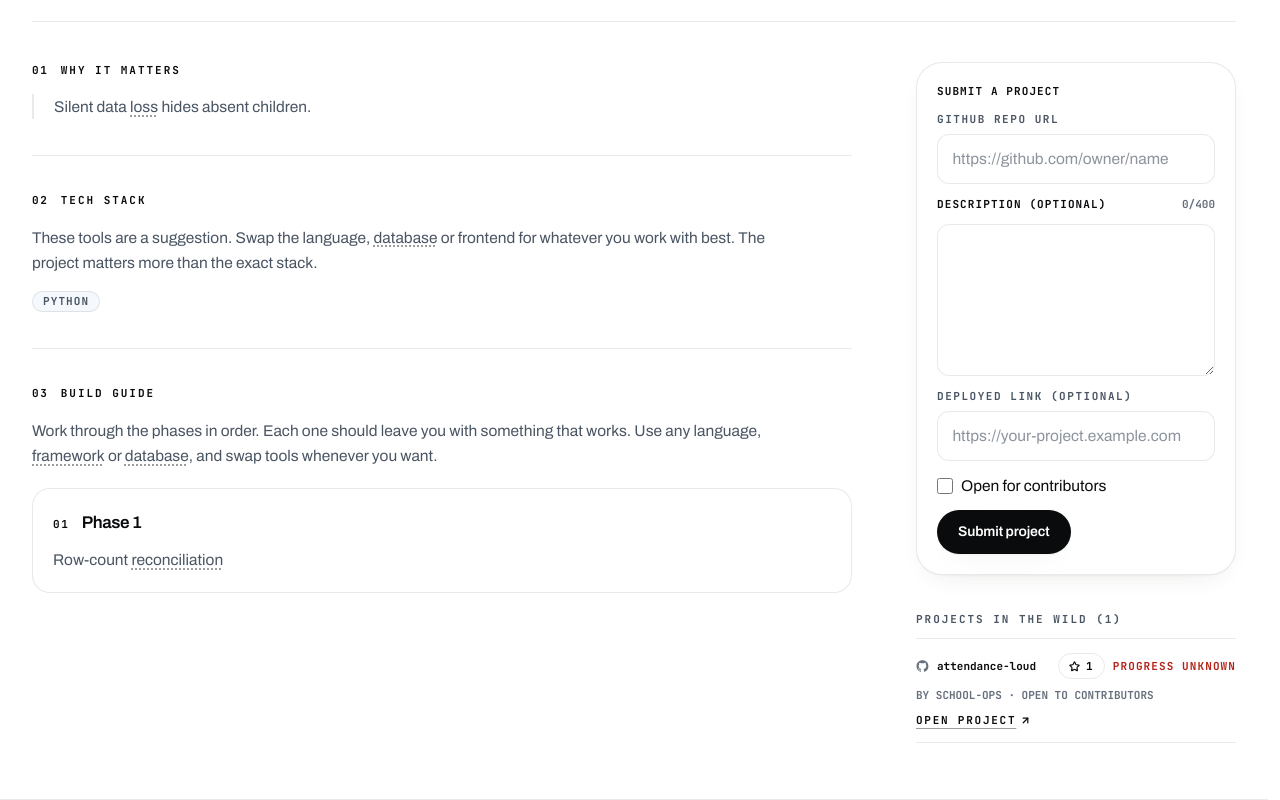
Test: ProblemDetailPage › stars a submitted project straight from the brief page
(page scrolled)
Click the button "1" at (1081, 666), box [1058,653,1105,679]
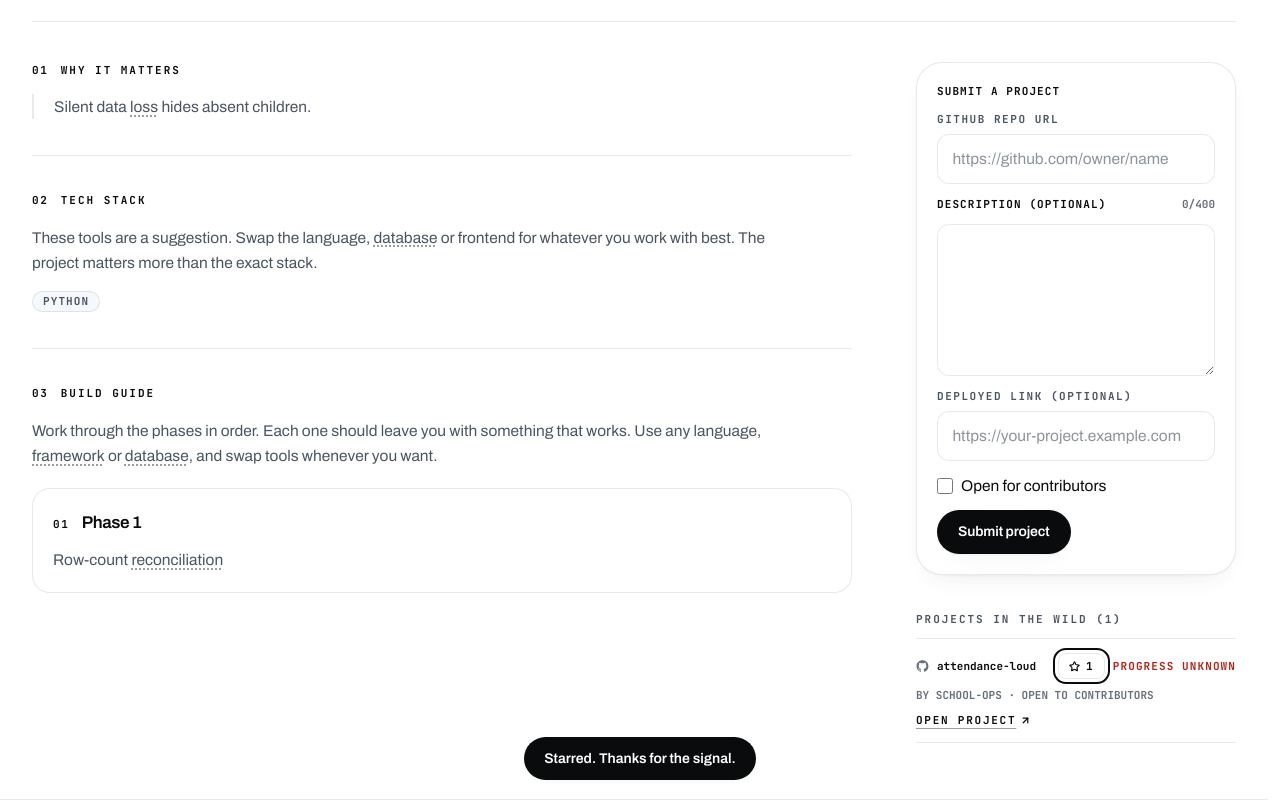
Expected: the message reads "Starred. Thanks for the signal.", [544,751,736,766]
